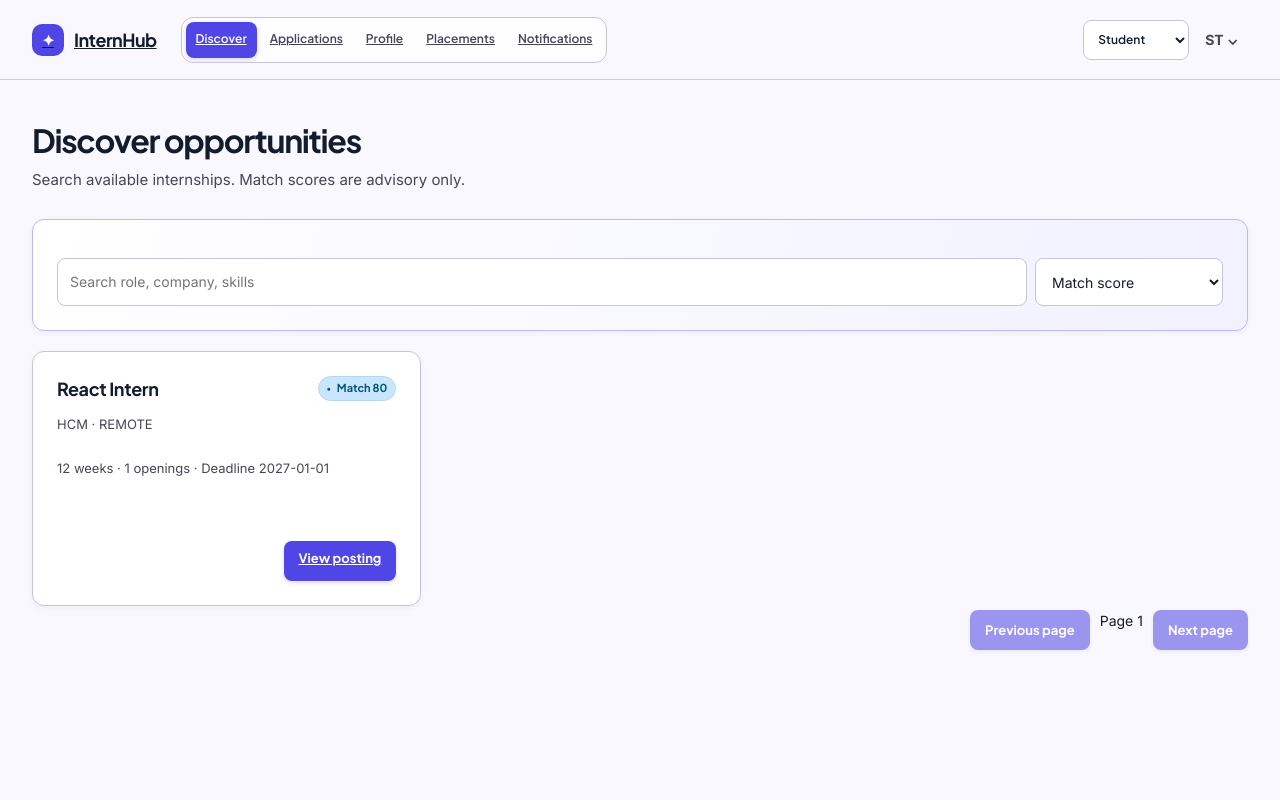
Test: ApiApp utilities and routes › renders discover data, filters it, and renders empty state
Expected: the heading "React Intern" is shown, [57, 376, 158, 402]
Type "nothing" into the field named "Search postings" at (542, 282), box [57, 258, 1027, 306]
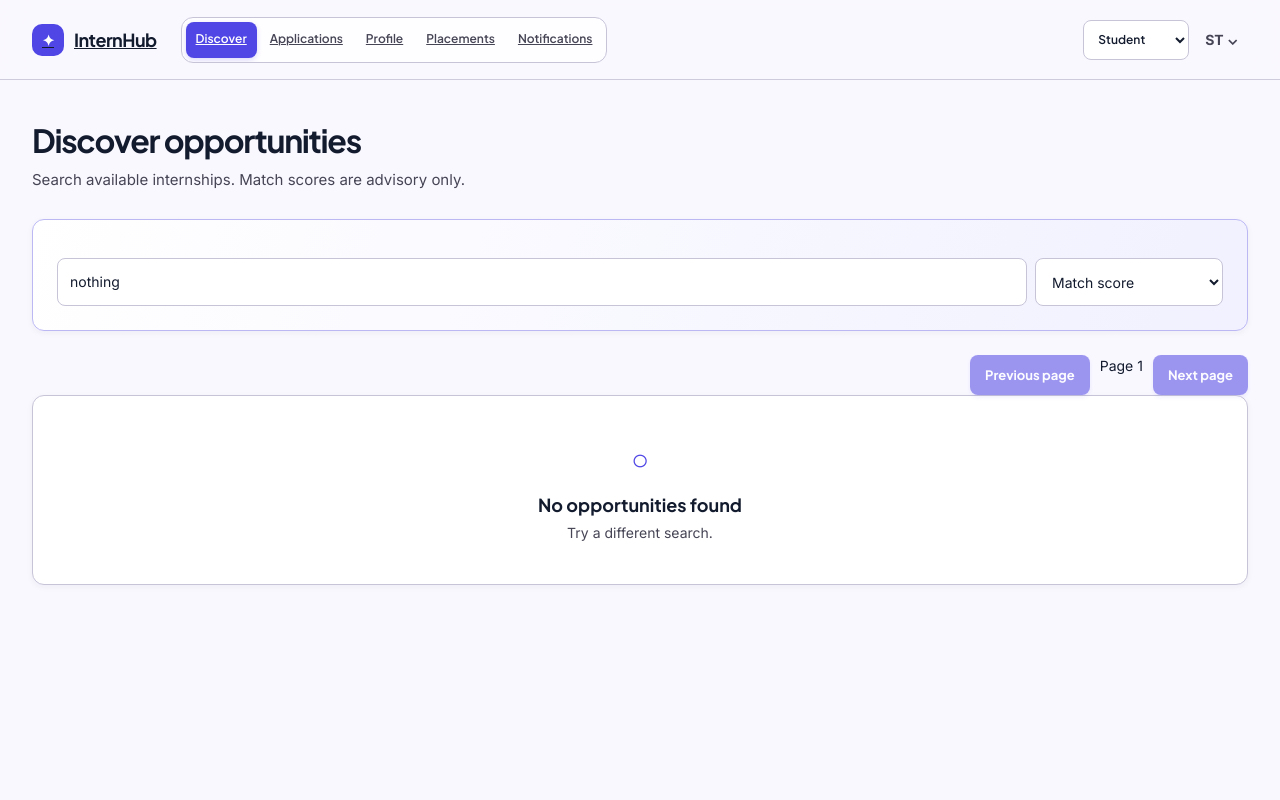
Now the heading "No opportunities found" is shown, box [538, 493, 742, 516]
